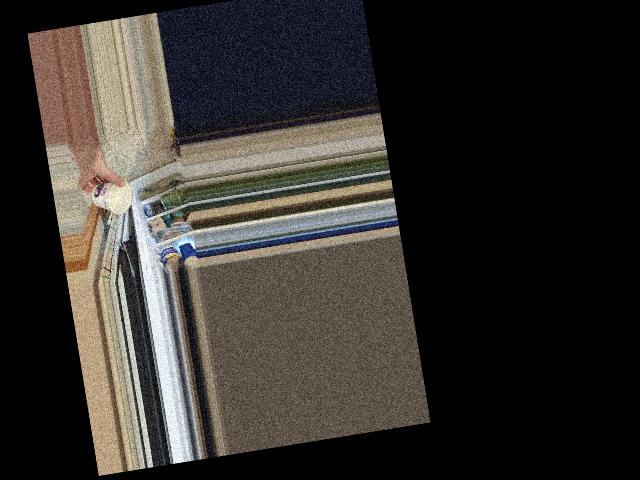cotage: (91, 180, 127, 215)
